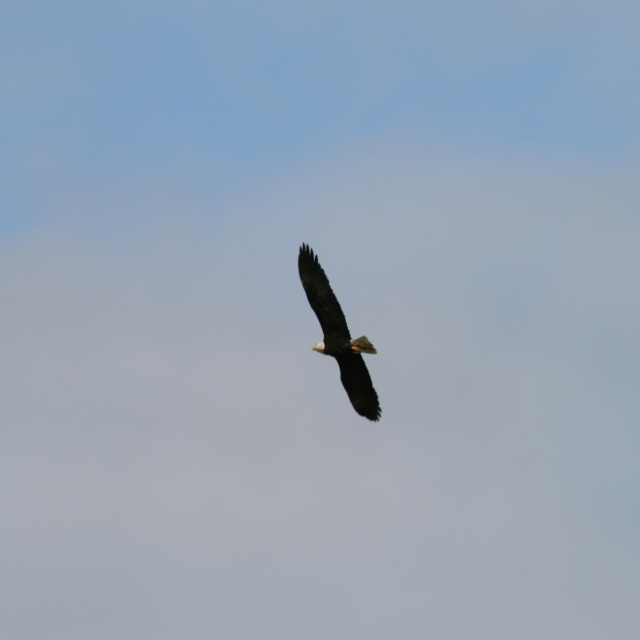Eagle: (295, 235, 387, 429)
